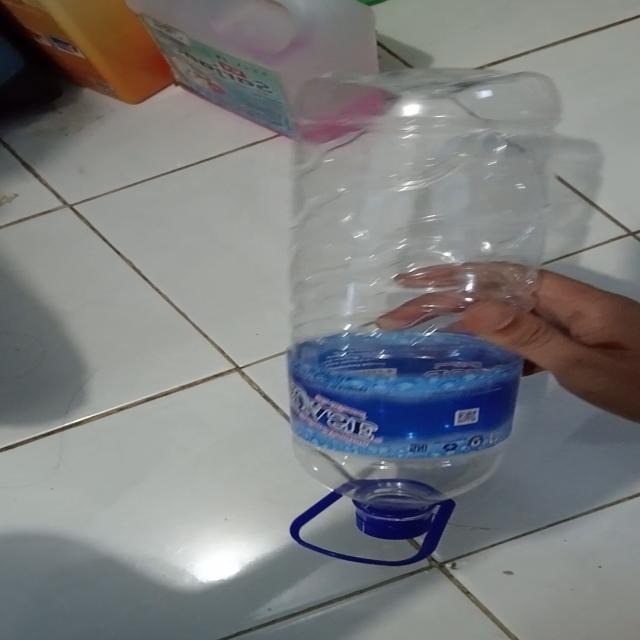Botol bekas: (284, 67, 568, 525)
